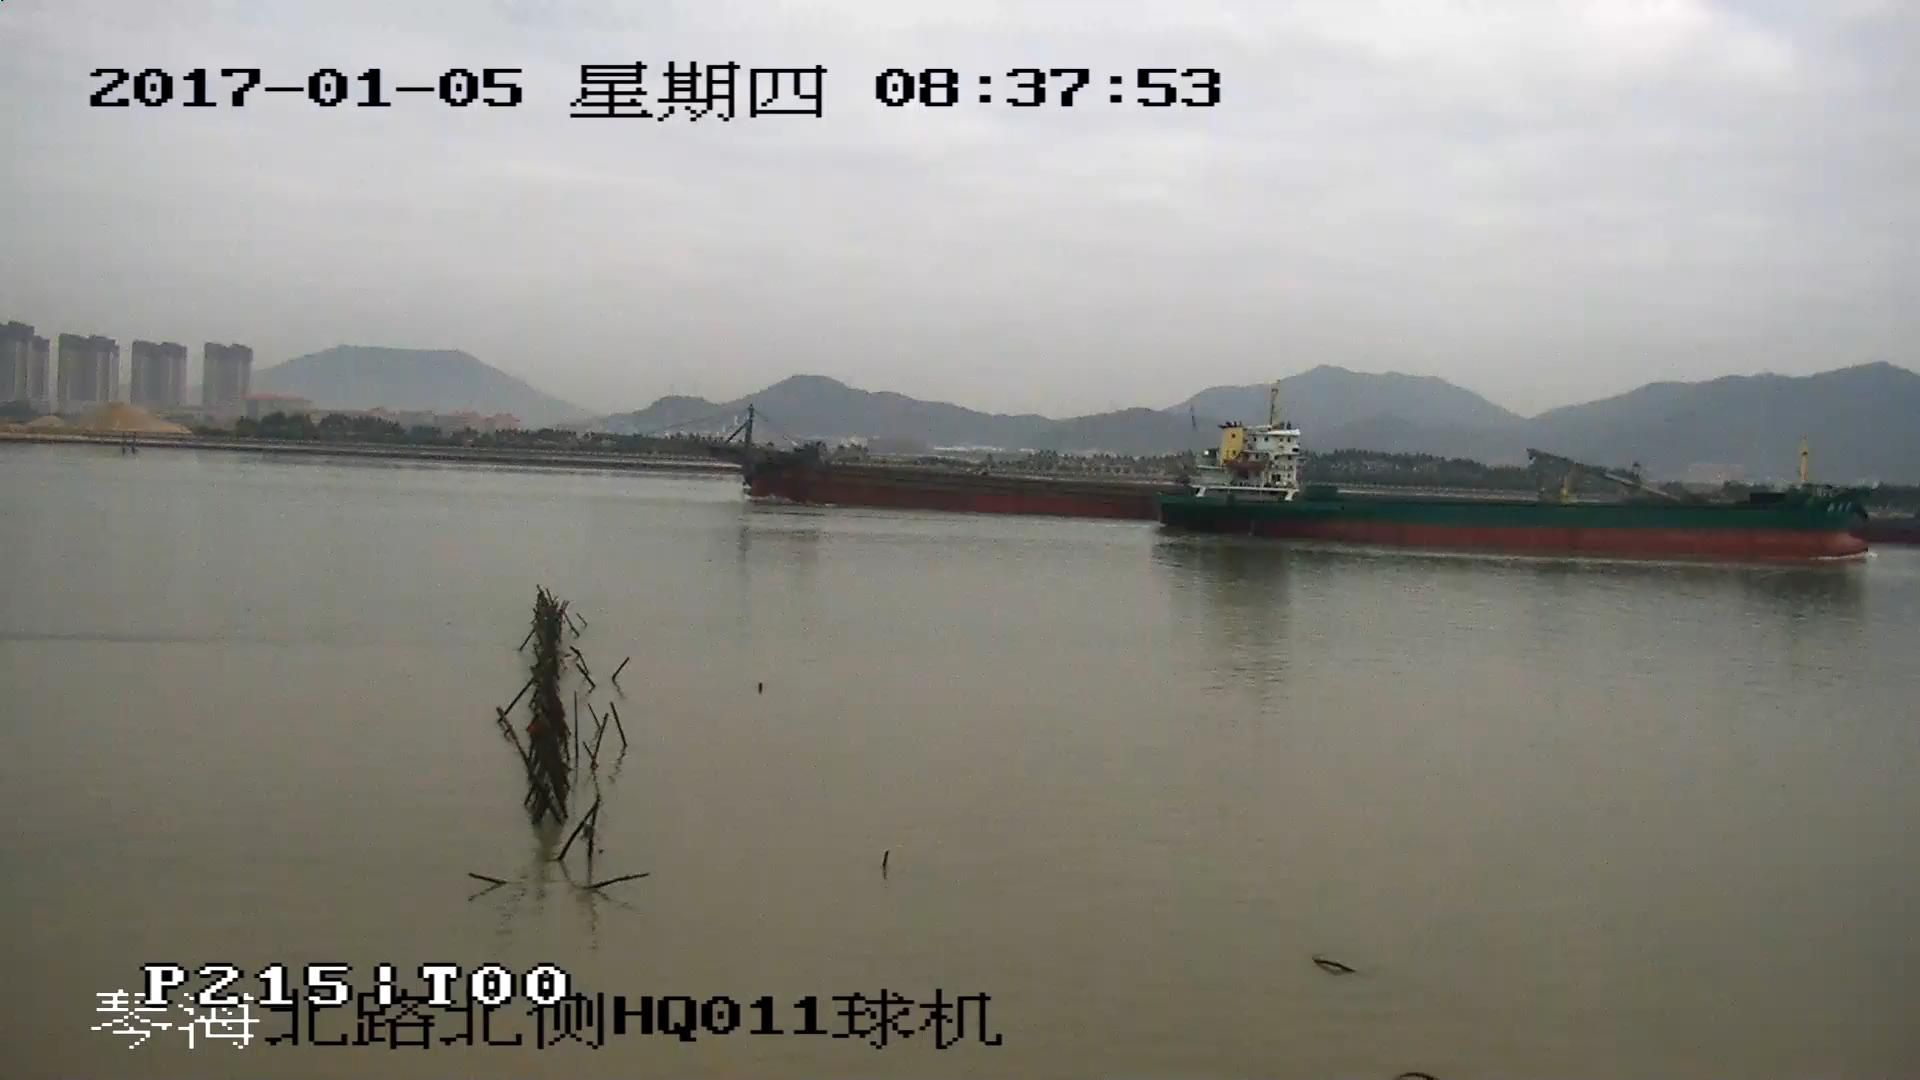bulk cargo carrier: (702, 412, 1155, 520)
general cargo ship: (1155, 398, 1868, 563)
